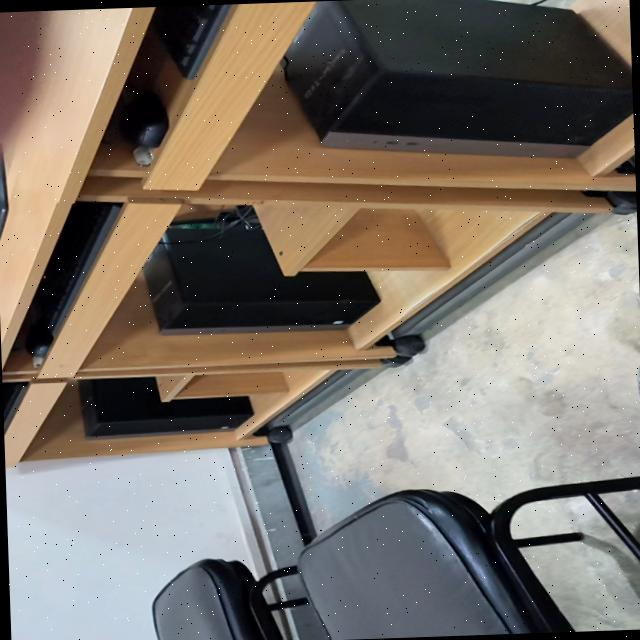Chair: (298, 475, 640, 640), (152, 557, 307, 640)
Cpu: (280, 0, 633, 156), (143, 223, 379, 333), (78, 376, 252, 437)
Keyboard: (32, 200, 122, 334), (152, 3, 232, 78)
Mouse: (118, 91, 168, 147)
